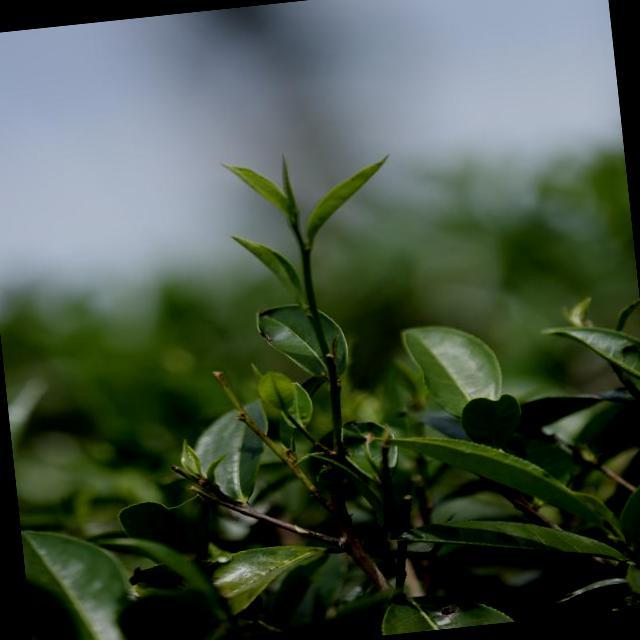Stem: (303, 251, 310, 264)
